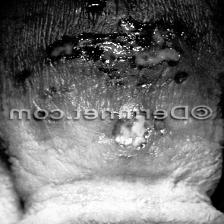Toxin: (55, 17, 201, 72), (91, 112, 161, 162)
